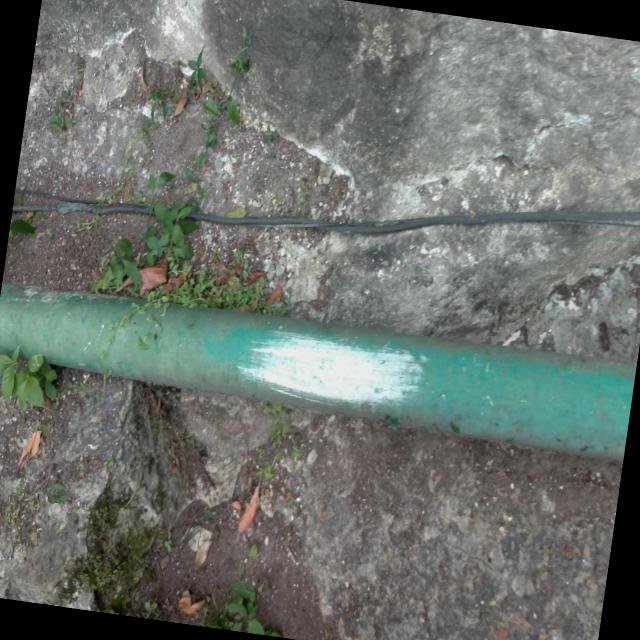gas: (0, 278, 636, 469)
